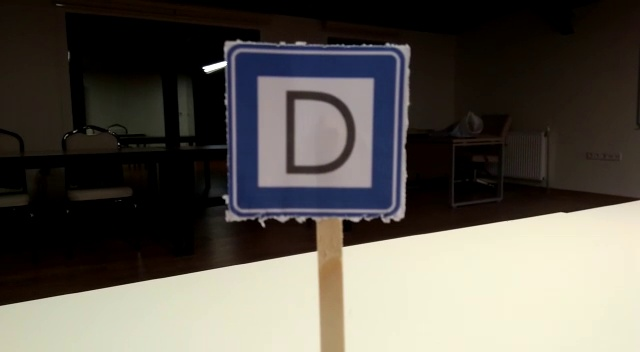durak: (228, 45, 406, 217)
